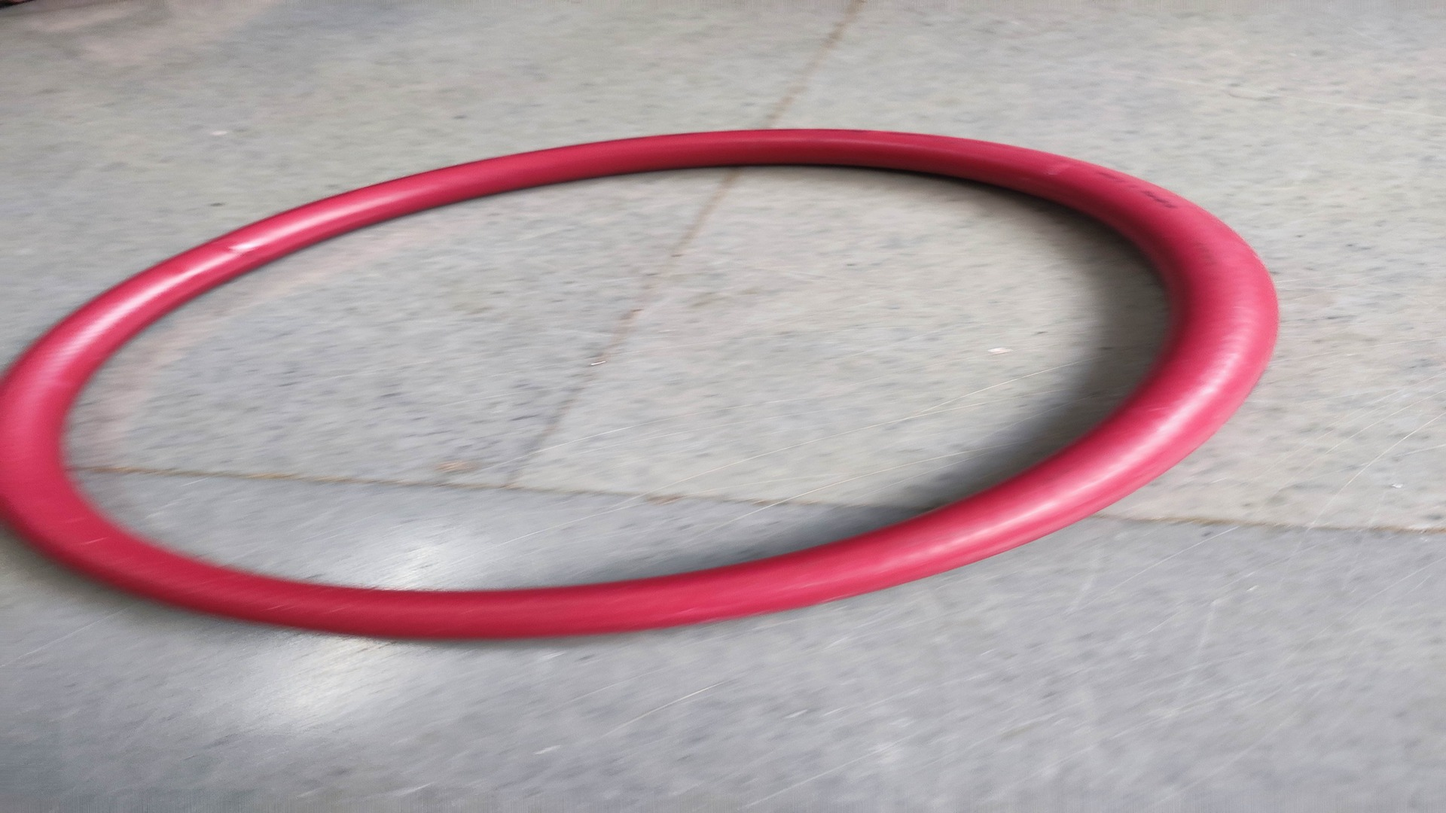Red ring: (8, 129, 1278, 632)
